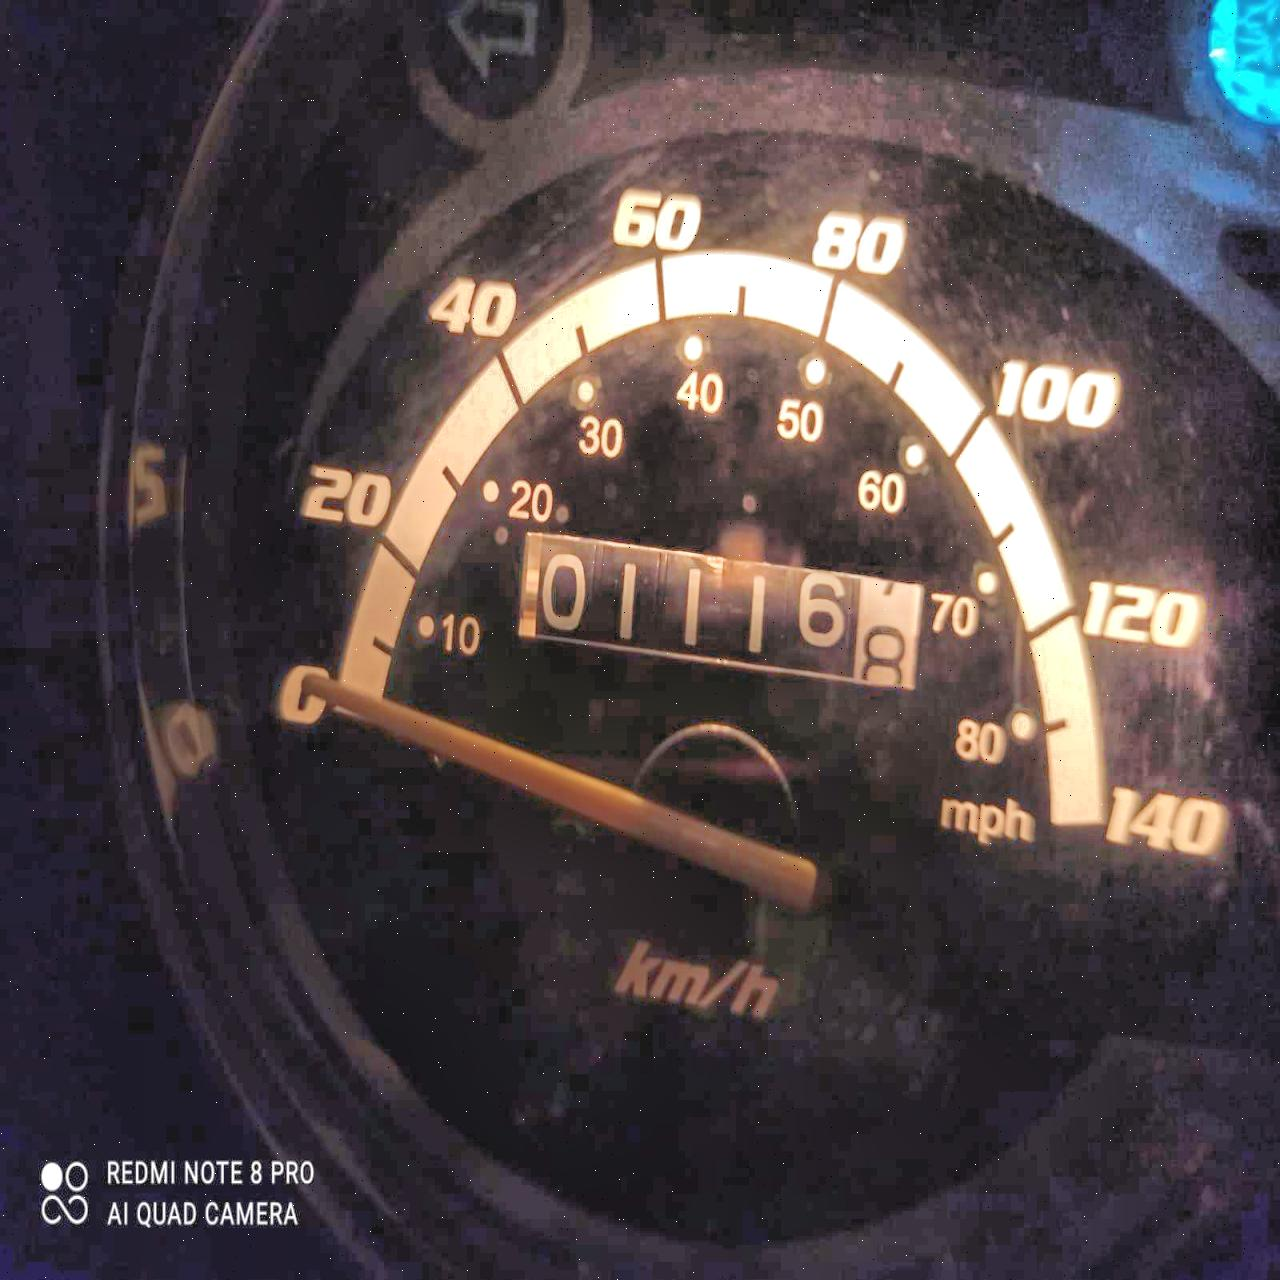0: (538, 549, 586, 633)
1: (612, 557, 641, 641), (741, 570, 769, 656), (678, 560, 704, 649)
6: (794, 570, 849, 648)
8: (858, 620, 907, 686)
odometer: (508, 523, 926, 696)
